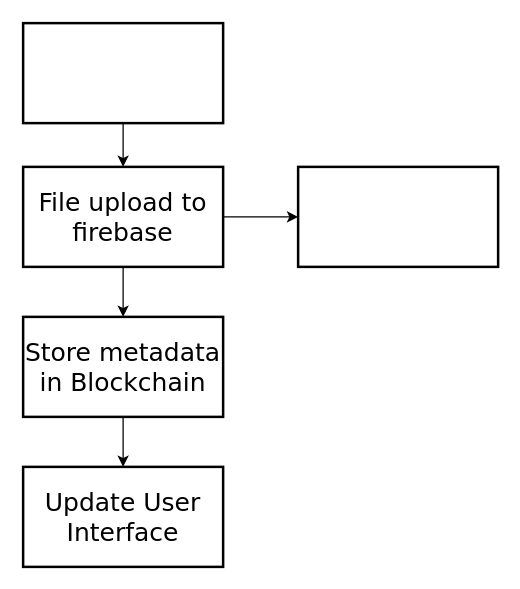
The diagram is 520 pixels wide and 589 high, and some of its shapes have lost their labels. Each missing label, with the box of its shape:
File Retrieval Process: (296, 165, 499, 268)
File selection: (21, 21, 224, 124)
